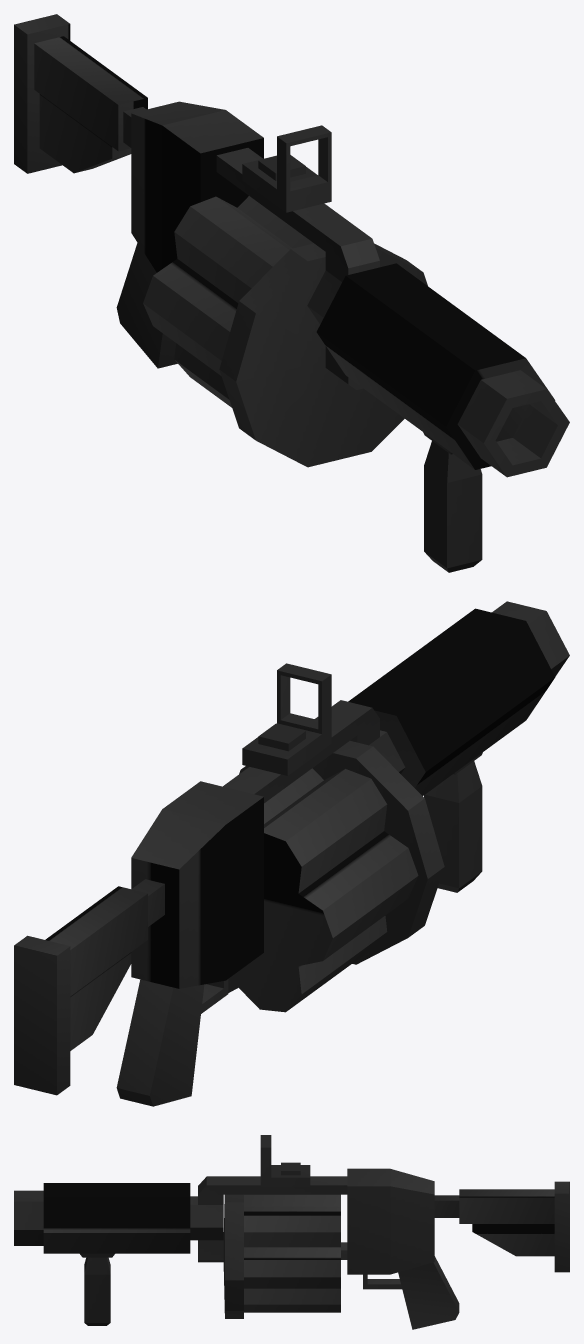
File: 유탄발사기.FBX
The picture shows the model from 3 angles, top to bottom: view 1: azimuth 30°, elevation 25°; view 2: azimuth 150°, elevation 25°; view 3: azimuth 270°, elevation 25°; orthographic projection. The views are drawn at different scales.
Parts seen in each view (by area): view 1: Cylinder005; view 2: Cylinder005; view 3: Cylinder005.
Part boxes in pixels (<box>): Cylinder005: <box>14,14,569,572</box>; Cylinder005: <box>14,601,569,1106</box>; Cylinder005: <box>14,1135,569,1329</box>.
Bounding box in the file's own units: 4.22 × 6.33 × 17.36.
